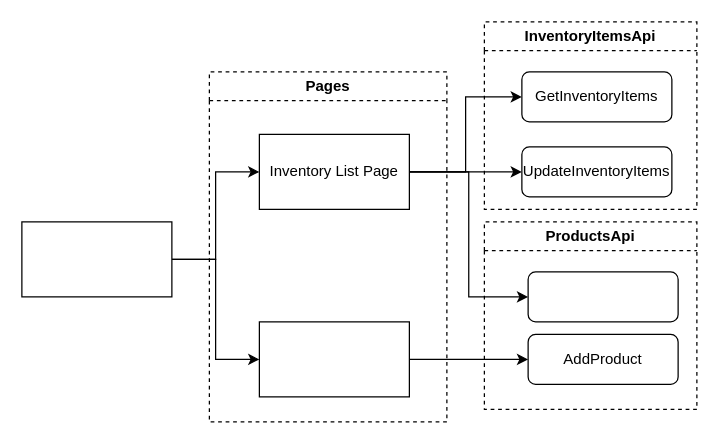
The diagram is 719 pixels wide and 444 high, and some of its shapes have lost their labels. Here are the shapes that lost their labels. From the top down, the centre of each, then its label:
(x=96, y=259): React App
(x=602, y=296): GetProducts
(x=333, y=359): Add Product Page
